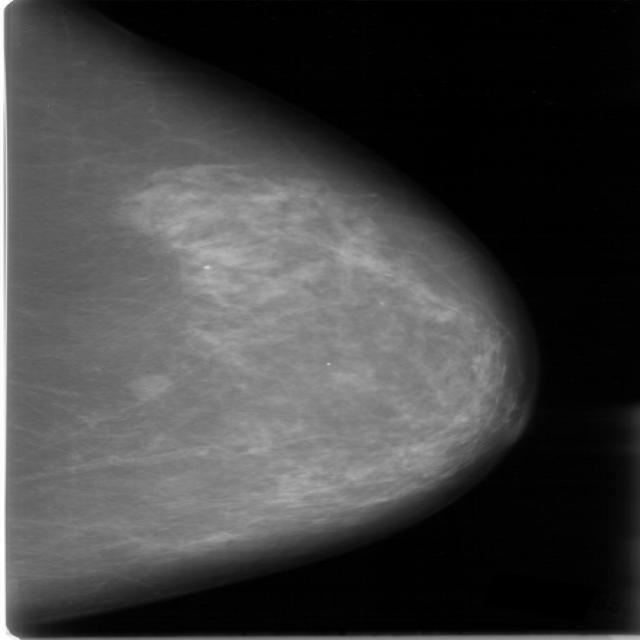tumour: (122, 372, 172, 398)
